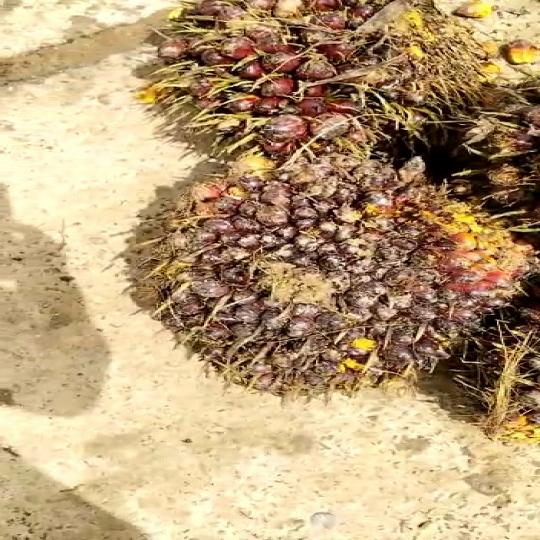kurang masak: (135, 157, 540, 380), (139, 0, 493, 161)
